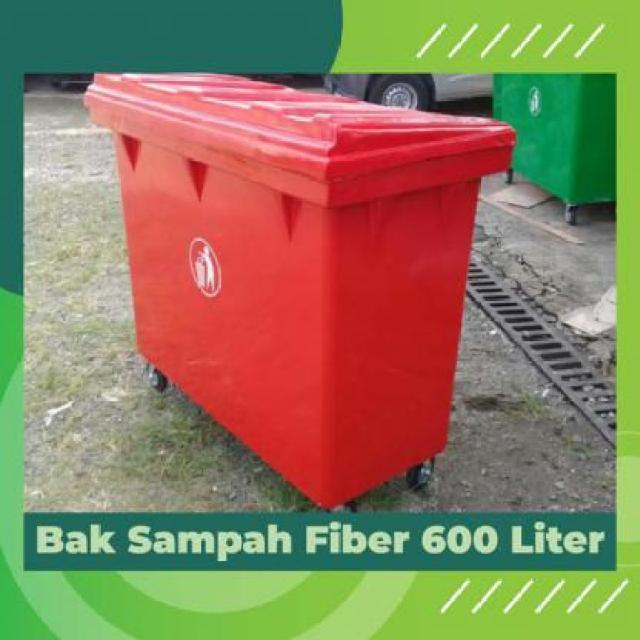garbage container: (80, 63, 520, 511), (490, 75, 618, 229)
